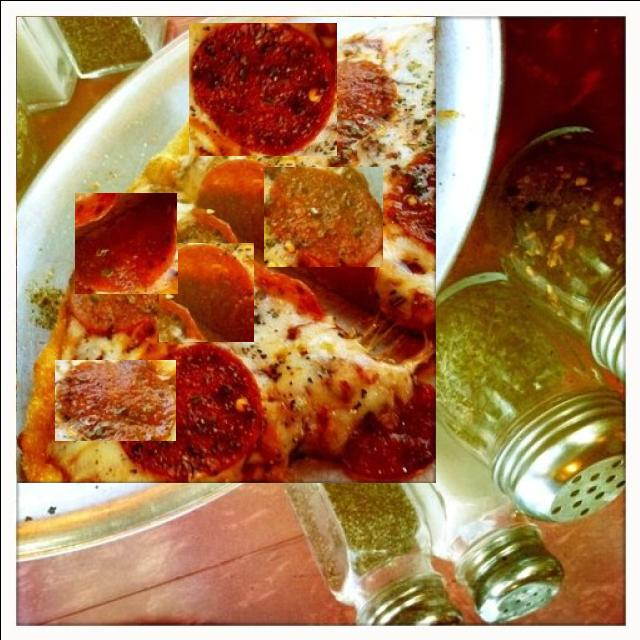pepperoni: (188, 22, 336, 155), (263, 166, 382, 266), (74, 192, 176, 293), (54, 359, 175, 440), (156, 242, 252, 341), (17, 245, 58, 354)
pizza: (16, 16, 435, 482)
